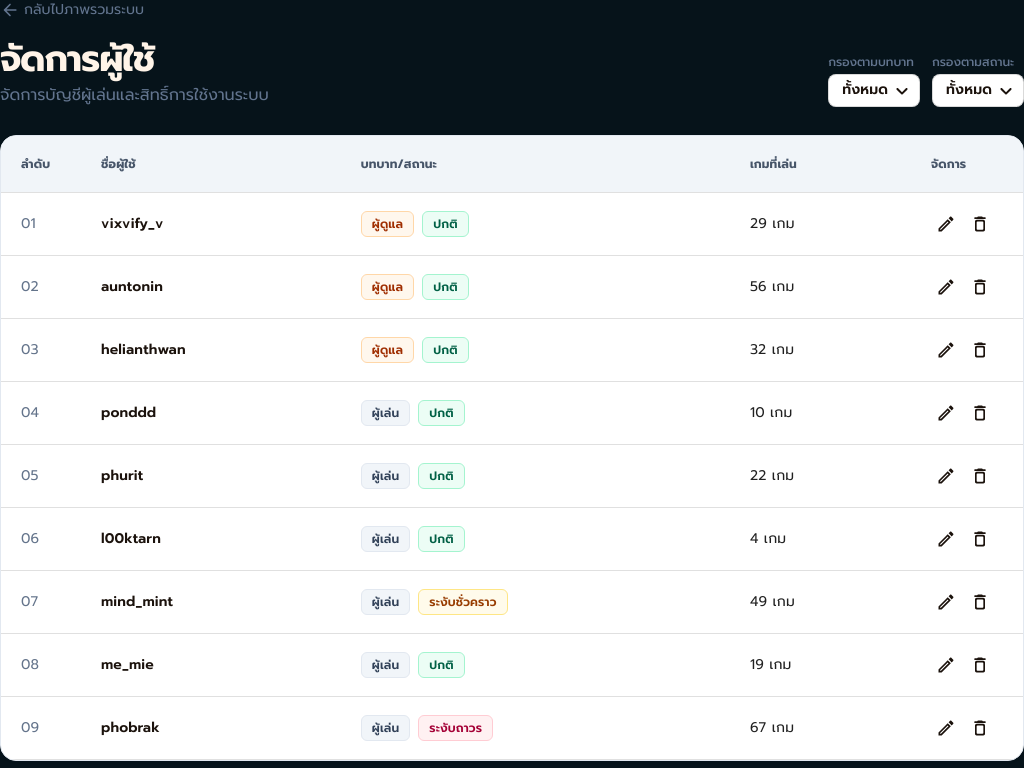
admin users › confirms before PATCH and updates the visible row
Click the button named "แก้ไข vixvify_v". click: x=946, y=224
box: [931,209,961,239]
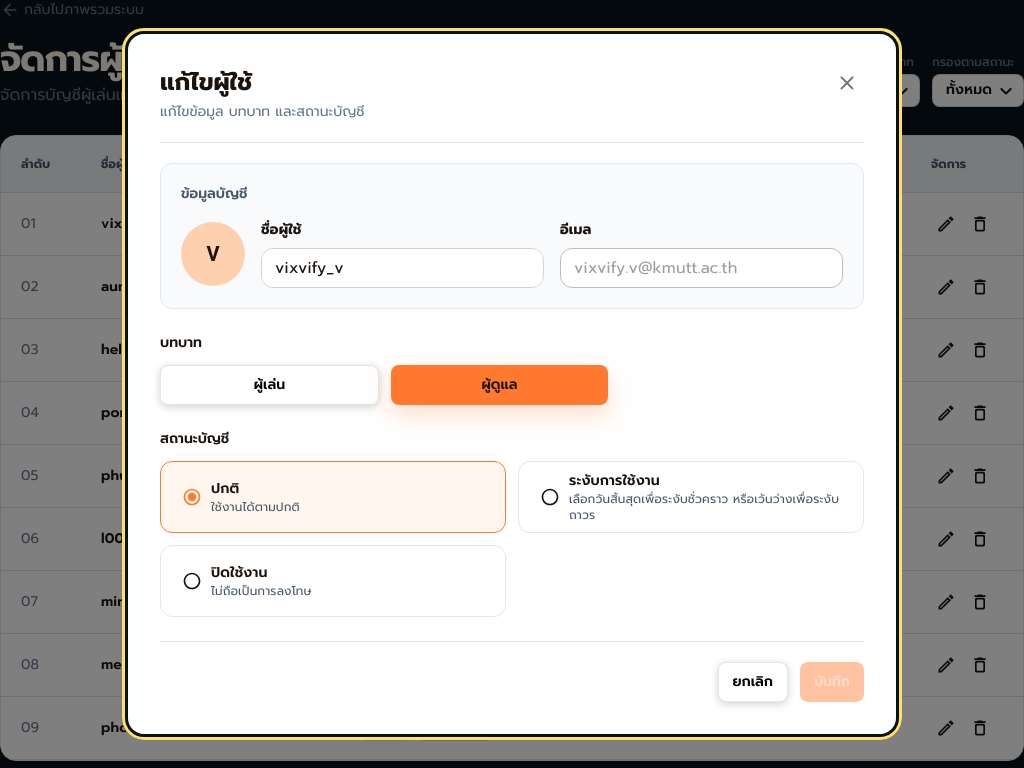
Replace the text in the field labelled "ชื่อผู้ใช้" with "New Admin". click: x=402, y=268
box: [261,249,544,288]
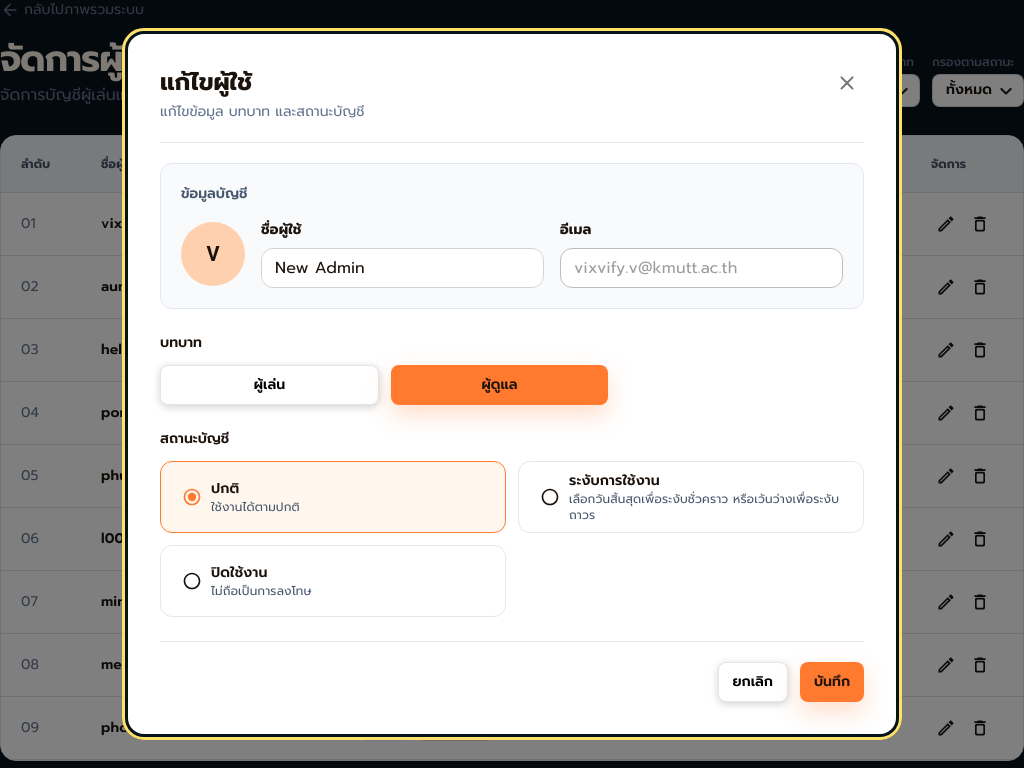
Check: the button "บันทึก" is enabled
Click the button "บันทึก". click: x=832, y=682
box: [800,662,864,702]
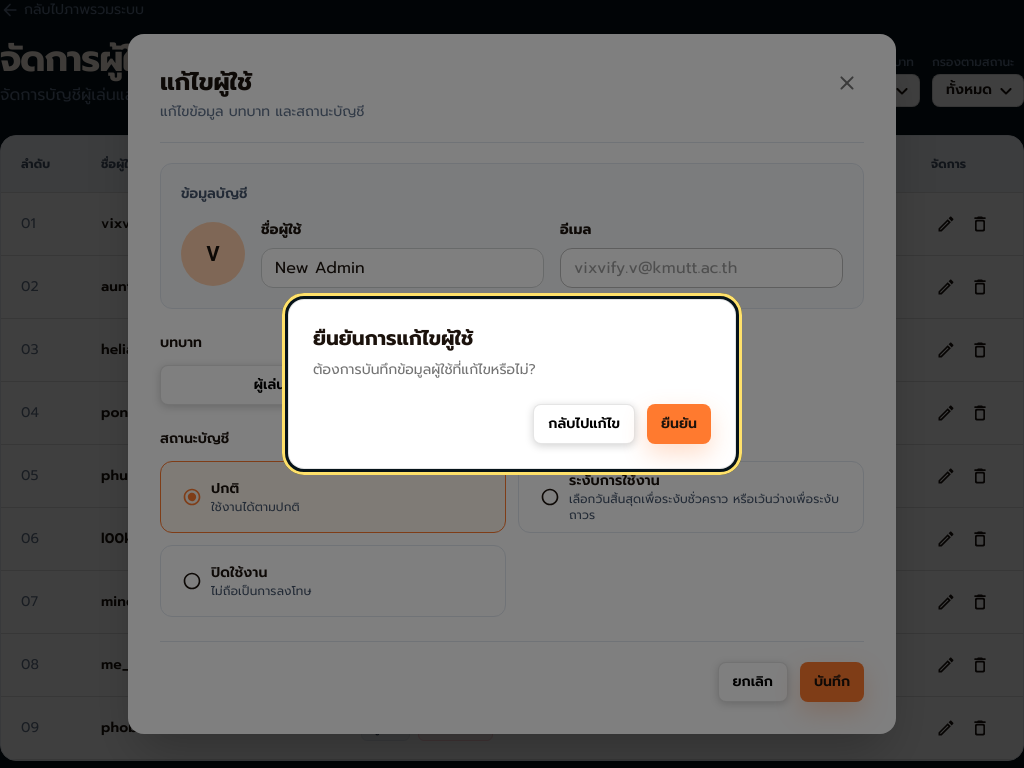
Click the button "ยืนยัน". click: x=679, y=424
box: [647,404,711,444]
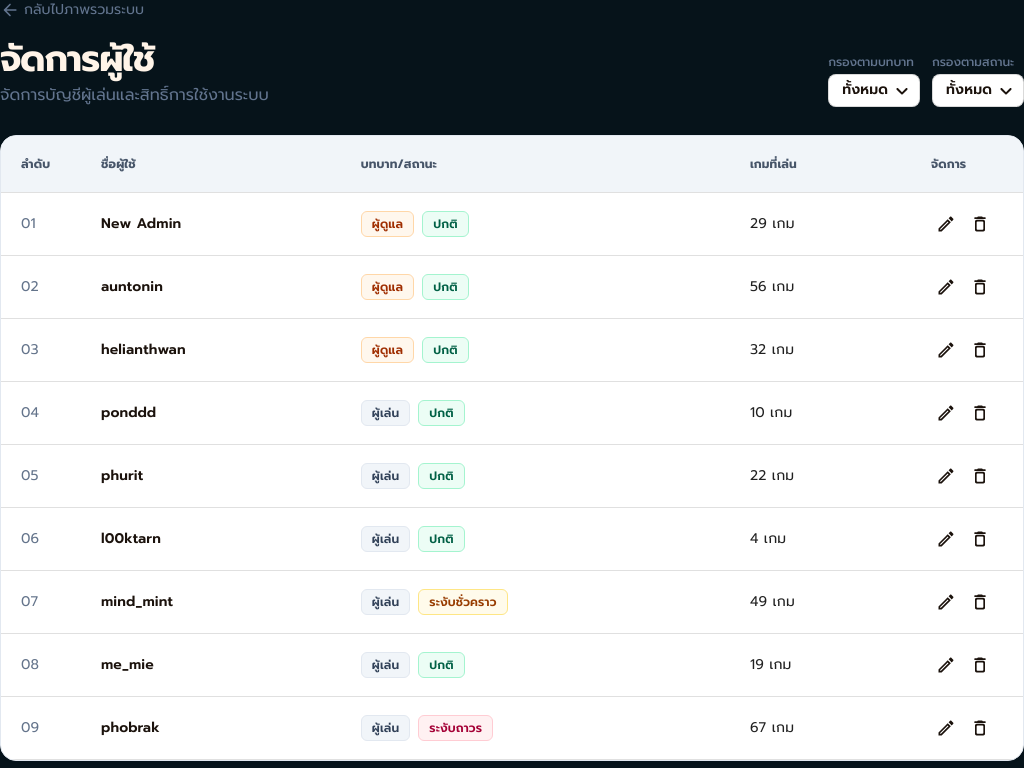
Check: the table named "รายชื่อผู้ใช้" shows "New Admin", box [101,213,181,234]
